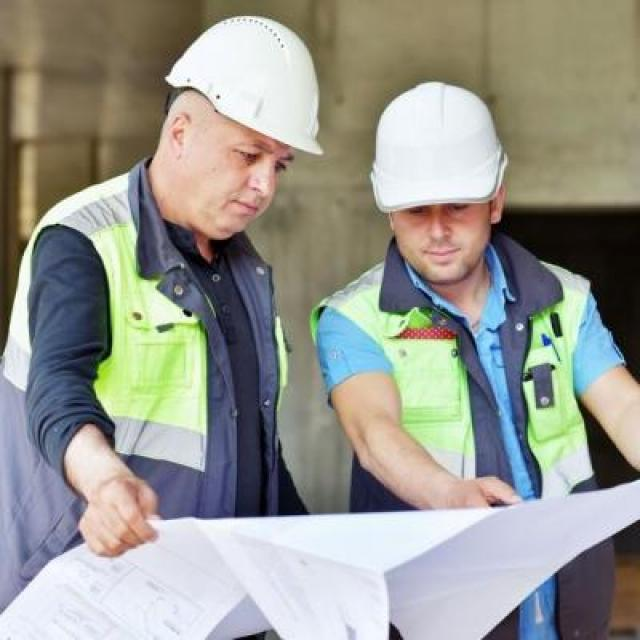Reflective-Jacket: (310, 258, 605, 507)
Safety-Helmet: (162, 10, 332, 156), (363, 77, 520, 216)
